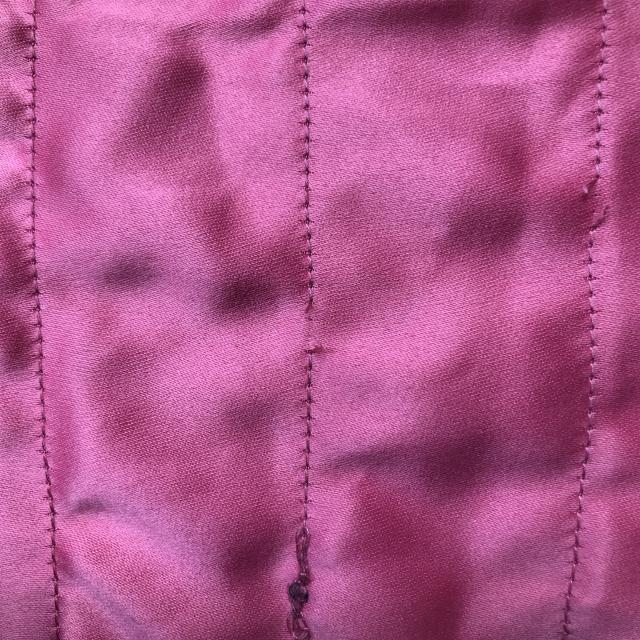broken: (288, 287, 354, 365)
